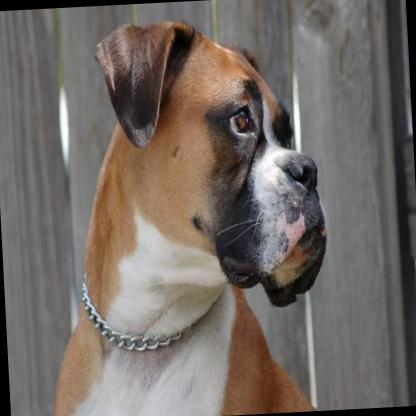boxer: (30, 10, 336, 416)
